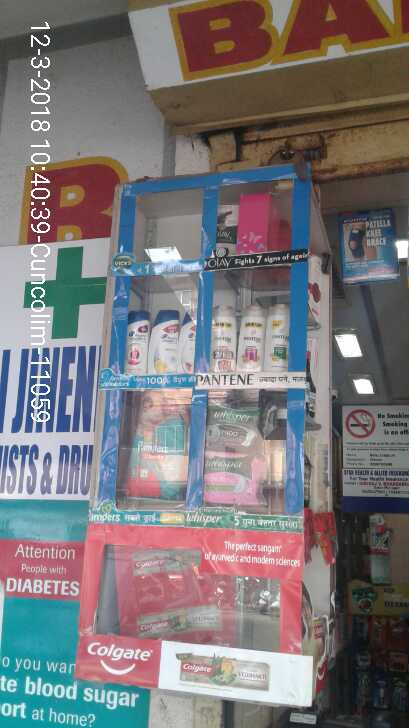beauty: (203, 305, 239, 373), (263, 297, 289, 388), (236, 302, 264, 379), (147, 313, 176, 379), (213, 205, 240, 263), (128, 313, 149, 374)
pharmacy: (125, 388, 200, 506), (201, 443, 266, 509), (207, 396, 267, 448)
